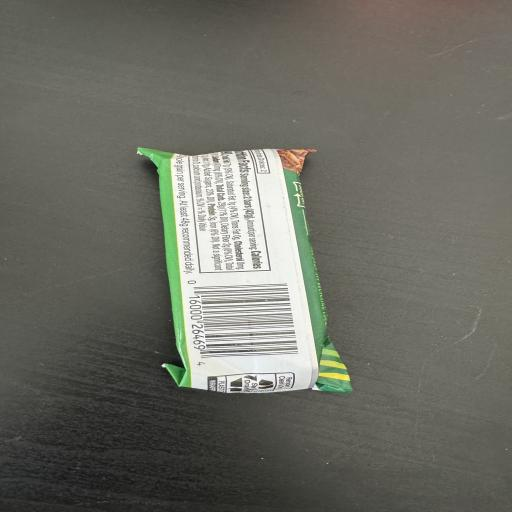granola: (139, 148, 351, 392)
